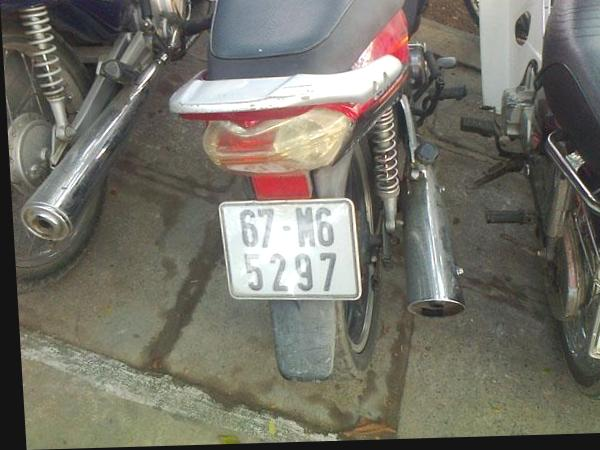License_Plate: (229, 202, 356, 300)
